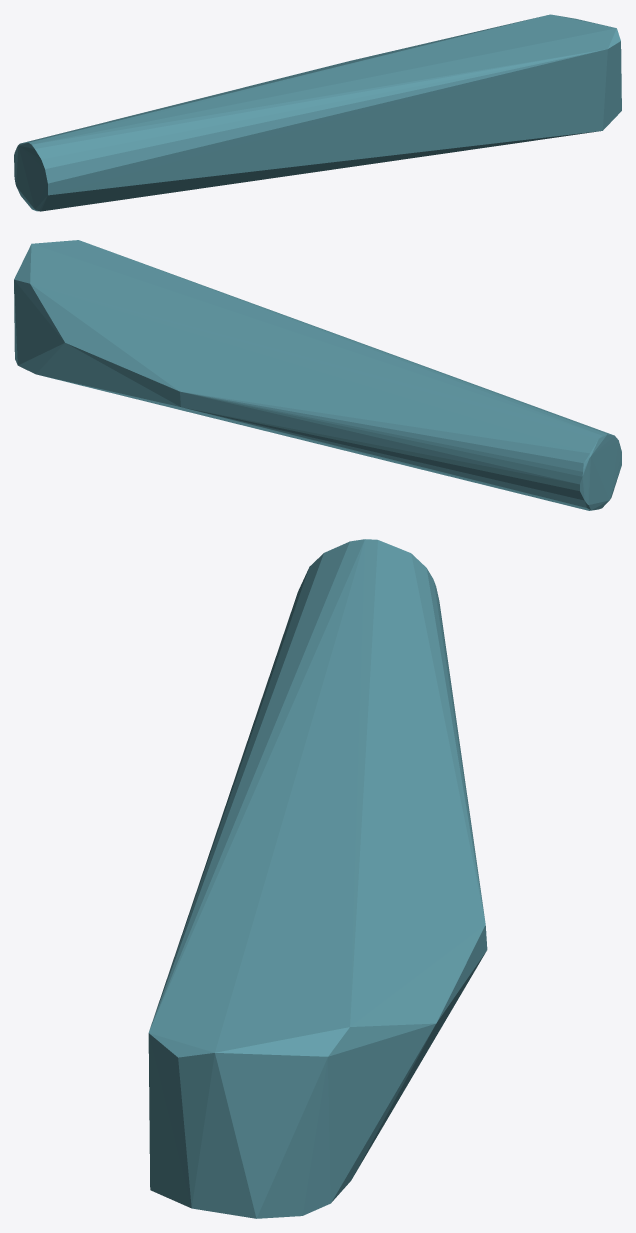
Rendered from instrument_bone_clamp_b01.glb.
The picture shows the model from 3 angles, top to bottom: view 1: azimuth 30°, elevation 25°; view 2: azimuth 150°, elevation 25°; view 3: azimuth 270°, elevation 25°; orthographic projection. The views are drawn at different scales.
Visible parts, largest first — view 1: geometry_0; view 2: geometry_0; view 3: geometry_0.
Part boxes in pixels (bbox=[...]): geometry_0: bbox=[14, 14, 621, 211]; geometry_0: bbox=[14, 240, 621, 510]; geometry_0: bbox=[148, 539, 487, 1218].
Bounding box in the file's own units: 0.4794 × 0.0705 × 0.1271.
